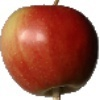apple: (1, 4, 99, 98)
